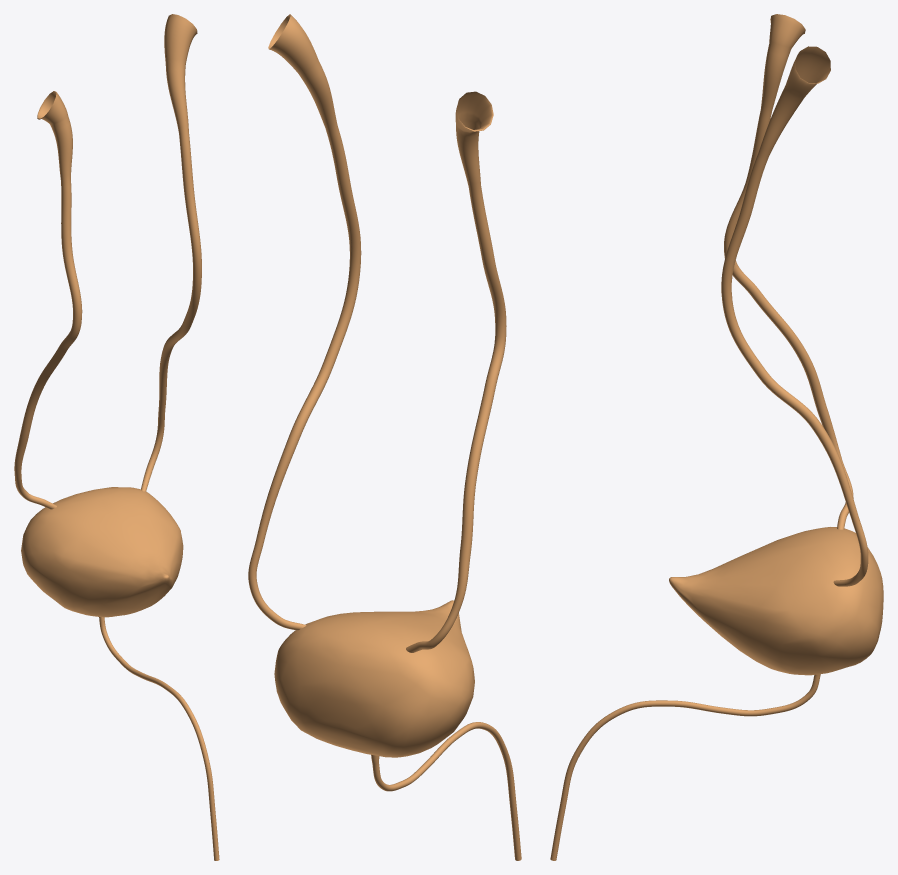
Rendered from urinary.glb.
3 renders of one model, left to right at view 1: azimuth 30°, elevation 25°; view 2: azimuth 150°, elevation 25°; view 3: azimuth 270°, elevation 25°, orthographic. The views are drawn at different scales.
Parts seen in each view (by area): view 1: urinary-bladder, ureter-left, ureter-right, urethra; view 2: urinary-bladder, ureter-left, ureter-right, urethra; view 3: urinary-bladder, ureter-left, ureter-right, urethra.
Boxes of the visible parts, <box> form: urinary-bladder: <box>21,487,183,617</box>; ureter-left: <box>141,14,201,491</box>; ureter-right: <box>14,91,82,509</box>; urethra: <box>99,617,219,860</box>; urinary-bladder: <box>274,600,474,757</box>; ureter-left: <box>248,14,361,630</box>; ureter-right: <box>406,91,506,652</box>; urethra: <box>371,722,521,860</box>; urinary-bladder: <box>669,527,883,675</box>; ureter-left: <box>721,46,868,586</box>; ureter-right: <box>724,14,853,529</box>; urethra: <box>550,674,820,860</box>.
Size of the model in its own units: 0.0864 by 0.3656 by 0.1293.
